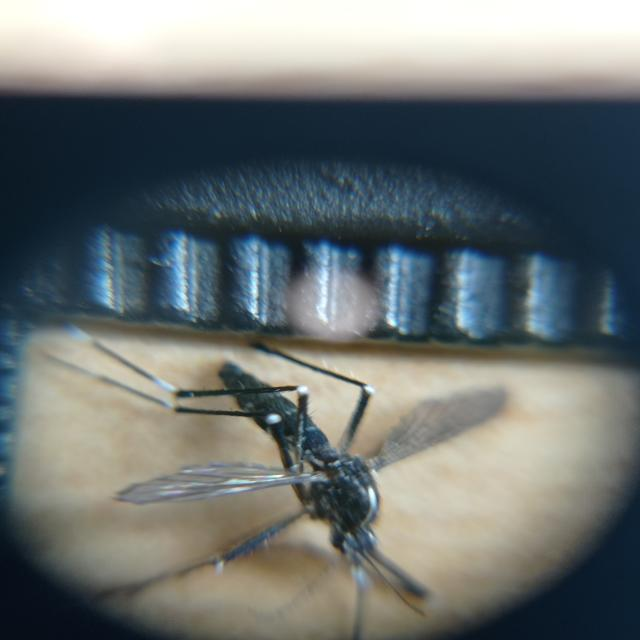albopictus: (44, 306, 463, 622)
